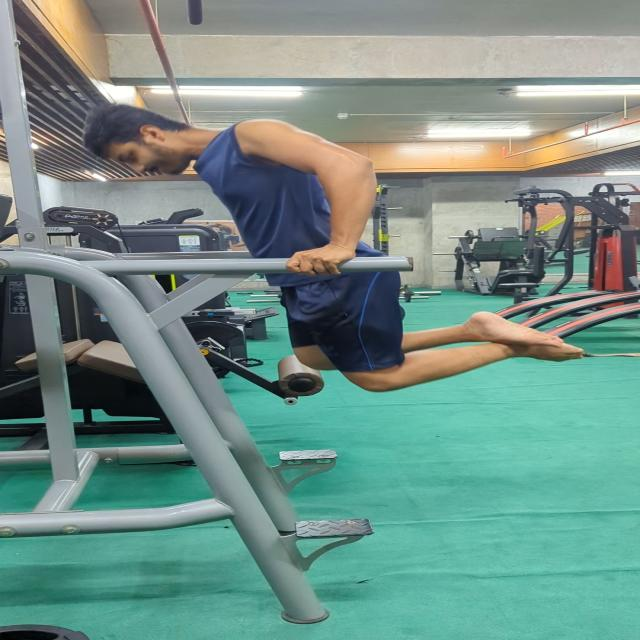Normal_Dips: (74, 92, 599, 400)
